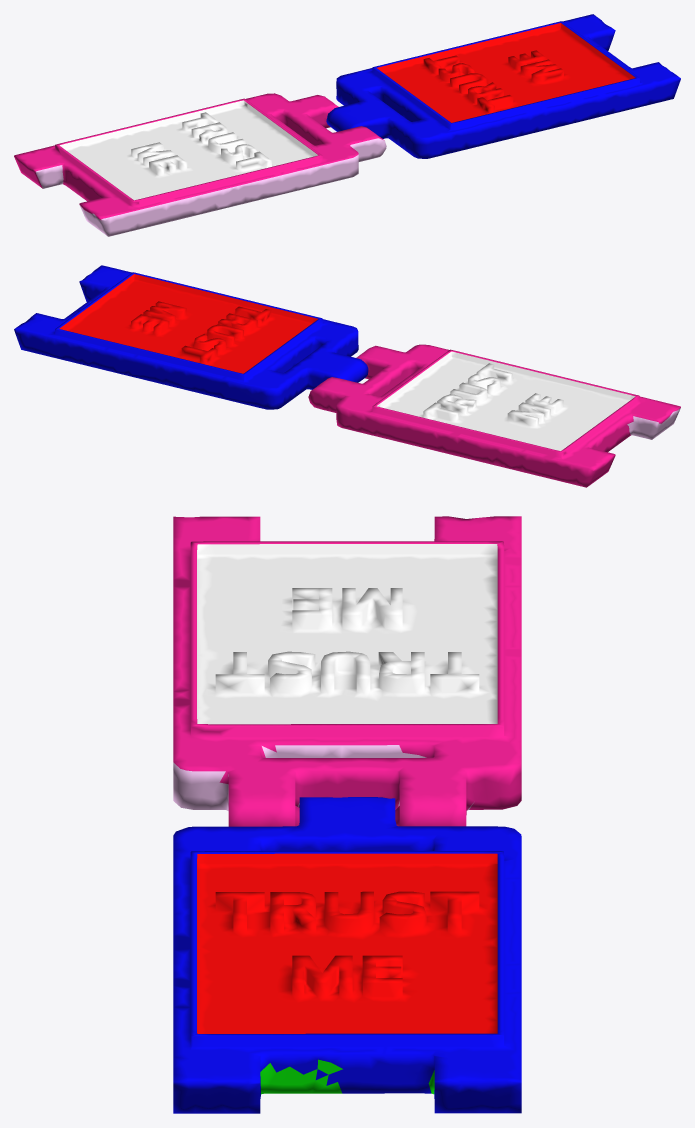
The model's file is model_16039_segmented.obj.
3 views of the same model, one above another, from view 1: azimuth 30°, elevation 25°; view 2: azimuth 150°, elevation 25°; view 3: azimuth 270°, elevation 25° (orthographic). The views are drawn at different scales.
Bounding box in the file's own units: 154 × 6.63 × 40.
